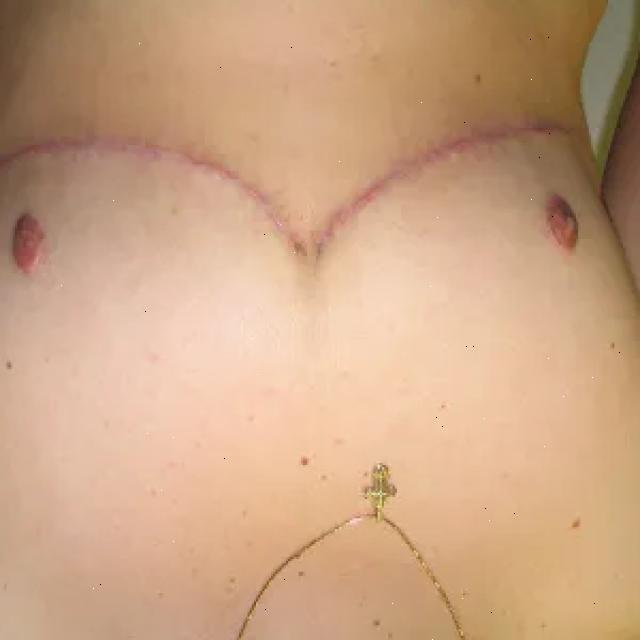Seno herido: (0, 90, 306, 406), (314, 92, 618, 407)
